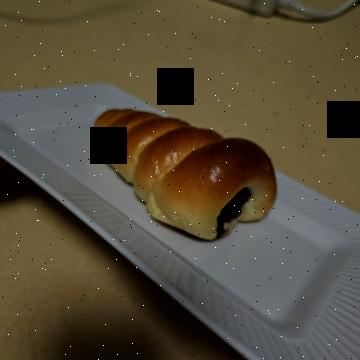cream horn: (82, 69, 241, 279)
